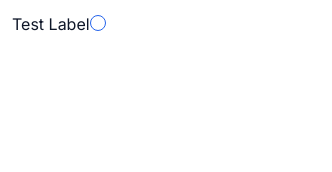
Checkbox Component › works with form labels
The width and height of the screenshot is (332, 172).
Click the text "Test Label": (51, 24) [12, 14, 90, 34]
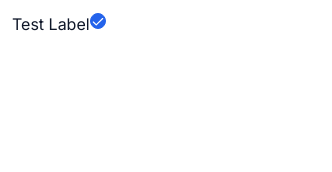
Result: the checkbox is checked at [90, 13, 106, 29]
